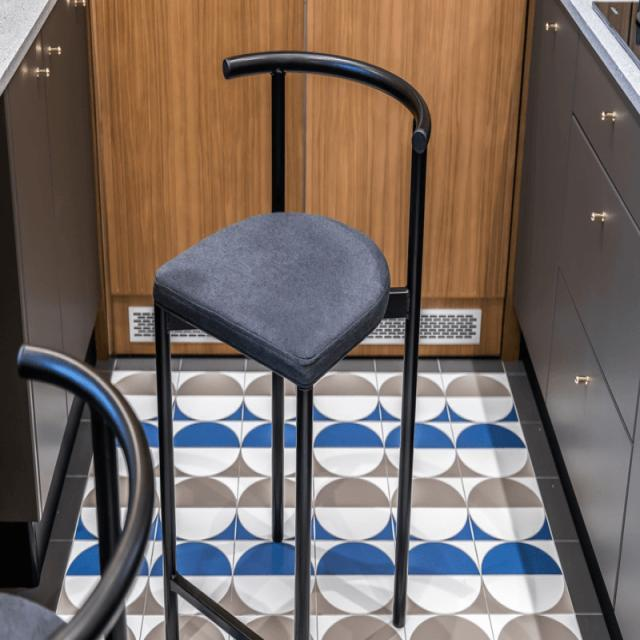chair: (150, 44, 434, 640), (138, 47, 458, 382), (0, 337, 173, 640)
